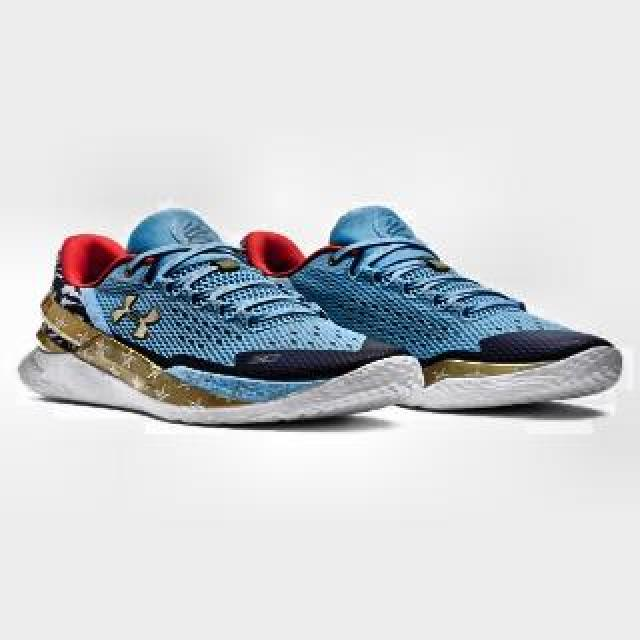shoe: (18, 208, 424, 428), (221, 206, 623, 410)
